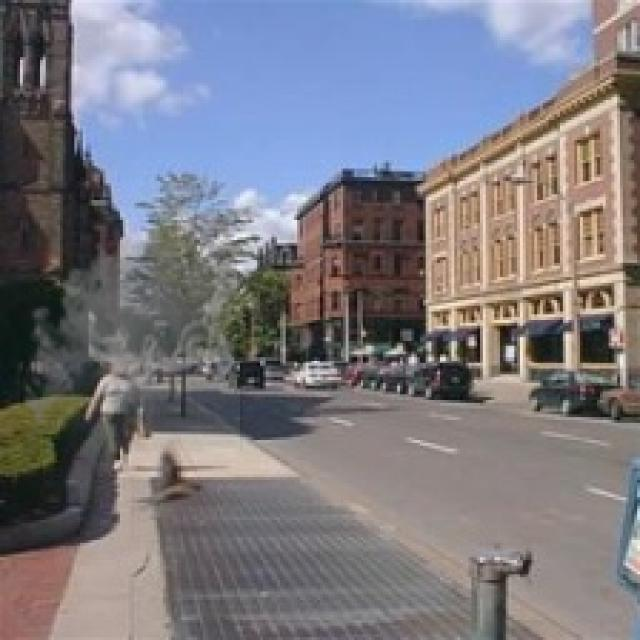Smoke: (17, 214, 243, 452)
